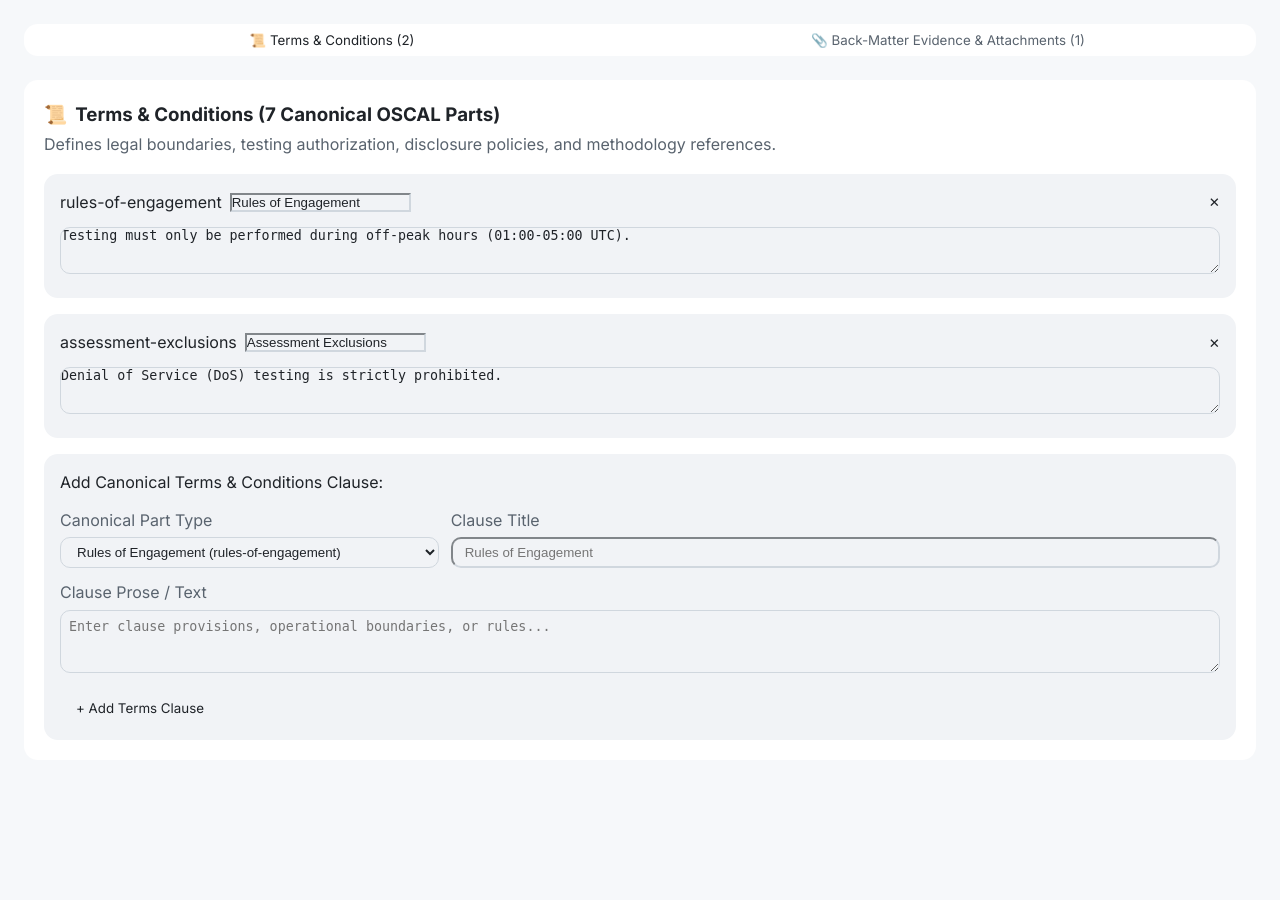
TermsConditionsTab › switches to Back-Matter Resource Attachments view and displays embedded files
Switch to attachments
Click the button "📎 Back-Matter Evidence & Attachments (1)" at (948, 40), box [640,24,1256,56]
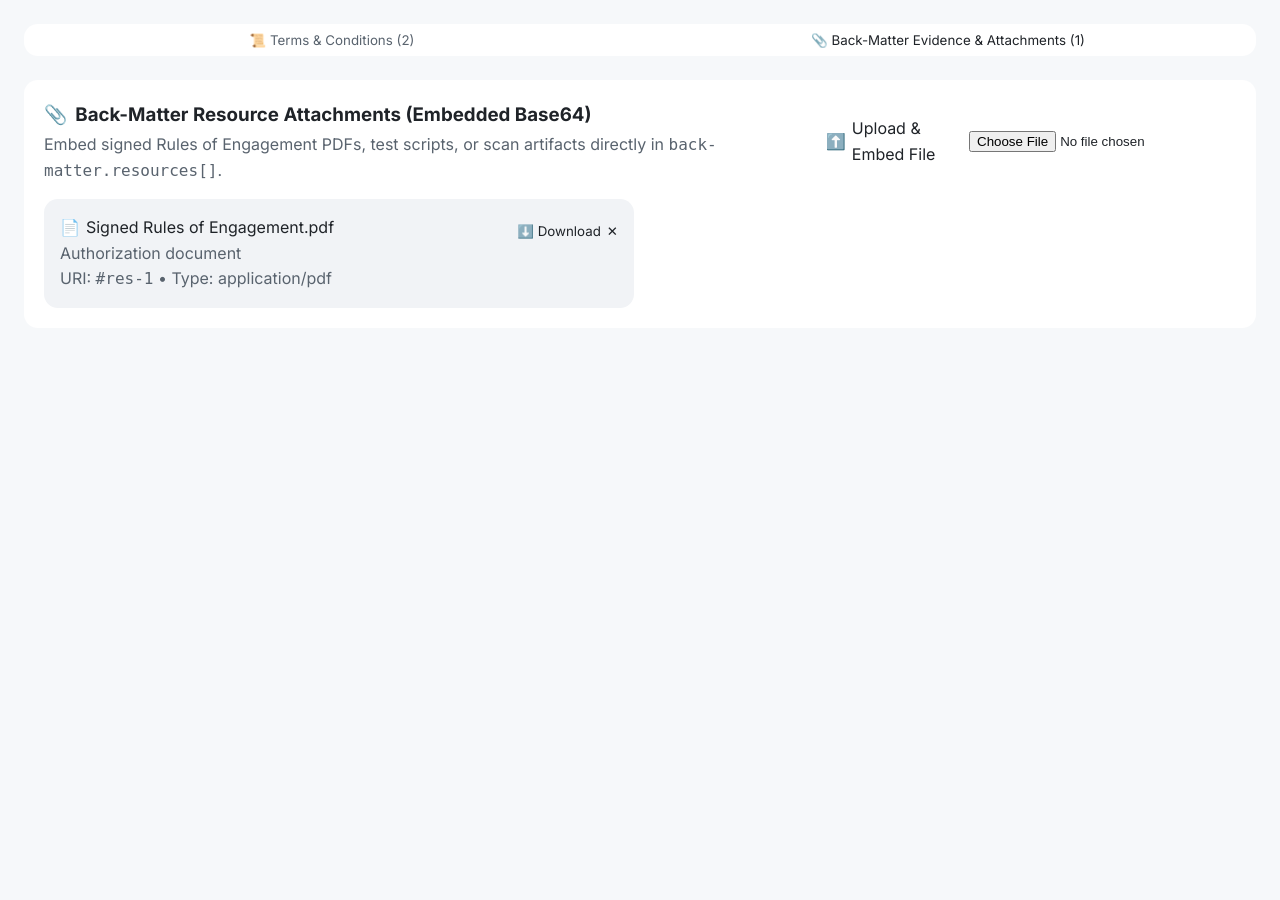
Expected: the text "Signed Rules of Engagement.pdf" is shown, [86,215,334,241]
Expected: the text "Authorization document" is shown, [60,243,241,263]
Expected: the button "⬇️ Download" is shown, [517,223,601,239]
